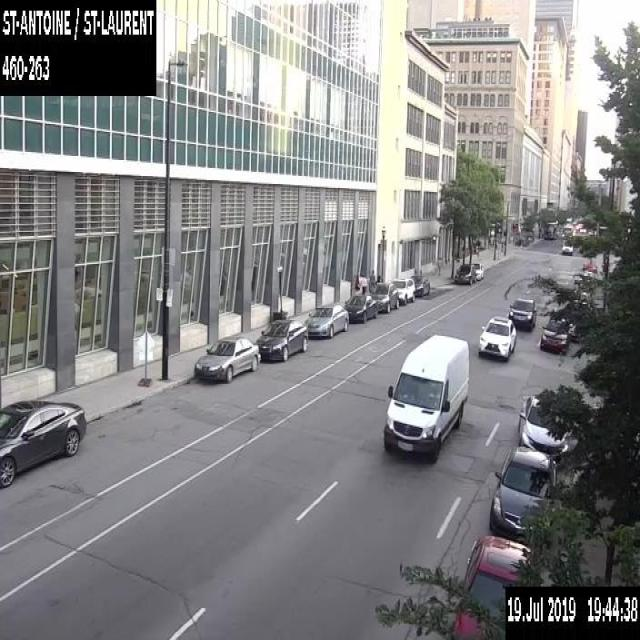construction: (134, 329, 156, 386), (582, 257, 596, 272)
pedestrian: (357, 274, 367, 293), (368, 268, 375, 290), (354, 273, 360, 294), (375, 274, 380, 284)
vehicle: (383, 332, 471, 463), (451, 534, 531, 638), (0, 398, 85, 488), (488, 444, 559, 546), (517, 394, 568, 466), (193, 336, 260, 382), (254, 318, 308, 360), (478, 314, 516, 361), (304, 303, 349, 337), (540, 316, 570, 353), (342, 293, 377, 322), (508, 297, 536, 329), (371, 281, 398, 312), (390, 276, 414, 304), (454, 263, 476, 283), (410, 274, 429, 296), (543, 221, 557, 238), (470, 262, 483, 279), (561, 238, 572, 254)
